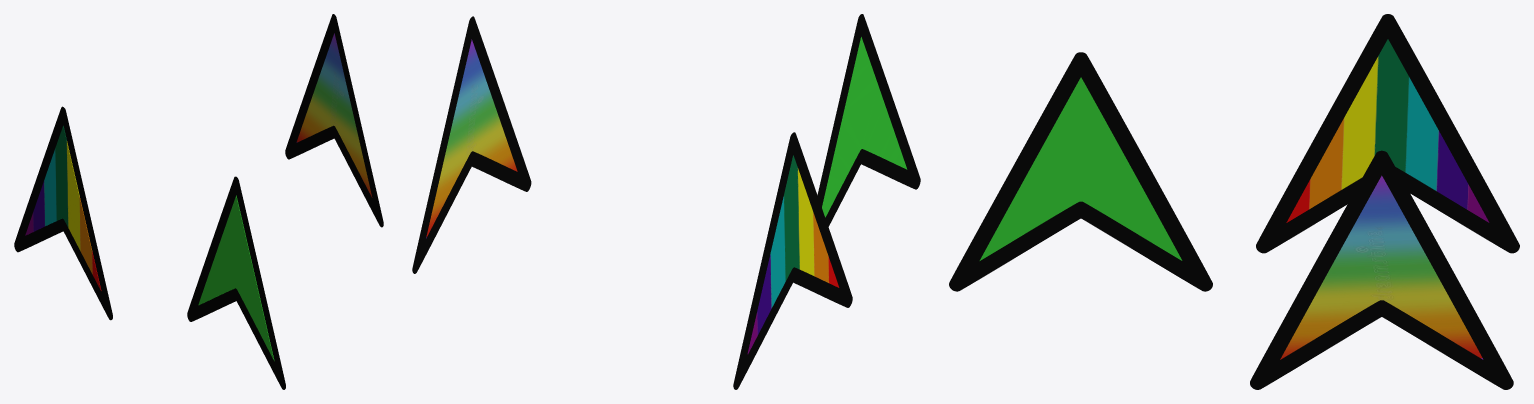
The model's file is _rrows.fbx.
3 renders of one model, left to right at view 1: azimuth 30°, elevation 25°; view 2: azimuth 150°, elevation 25°; view 3: azimuth 270°, elevation 25°, orthographic. The views are drawn at different scales.
Parts seen in each view (by area): view 1: arrowupgrade1, arrowsell, arrowupgrade2; view 2: arrowupgrade1, arrowupgrade2, arrowsell; view 3: arrowsell, arrowupgrade2, arrowupgrade1.
Part boxes in pixels (bbox=[...]): arrowupgrade1: bbox=[14, 106, 112, 320]; arrowsell: bbox=[187, 176, 285, 389]; arrowupgrade2: bbox=[285, 14, 383, 227]; arrowupgrade1: bbox=[733, 132, 852, 389]; arrowupgrade2: bbox=[412, 16, 531, 273]; arrowsell: bbox=[817, 14, 920, 226]; arrowsell: bbox=[949, 52, 1212, 291]; arrowupgrade2: bbox=[1250, 150, 1513, 389]; arrowupgrade1: bbox=[1256, 14, 1519, 253].
Bounding box in the file's own units: 55.62 × 41.05 × 76.4.
